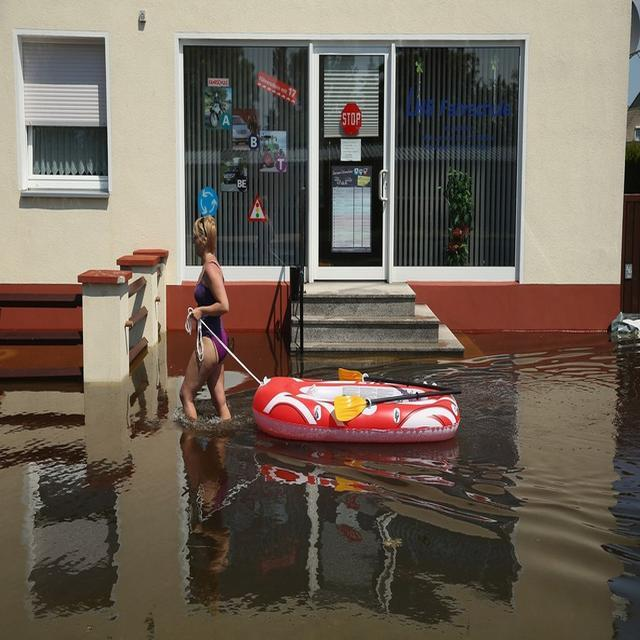Person-RiskLevel2: (168, 213, 242, 423)
